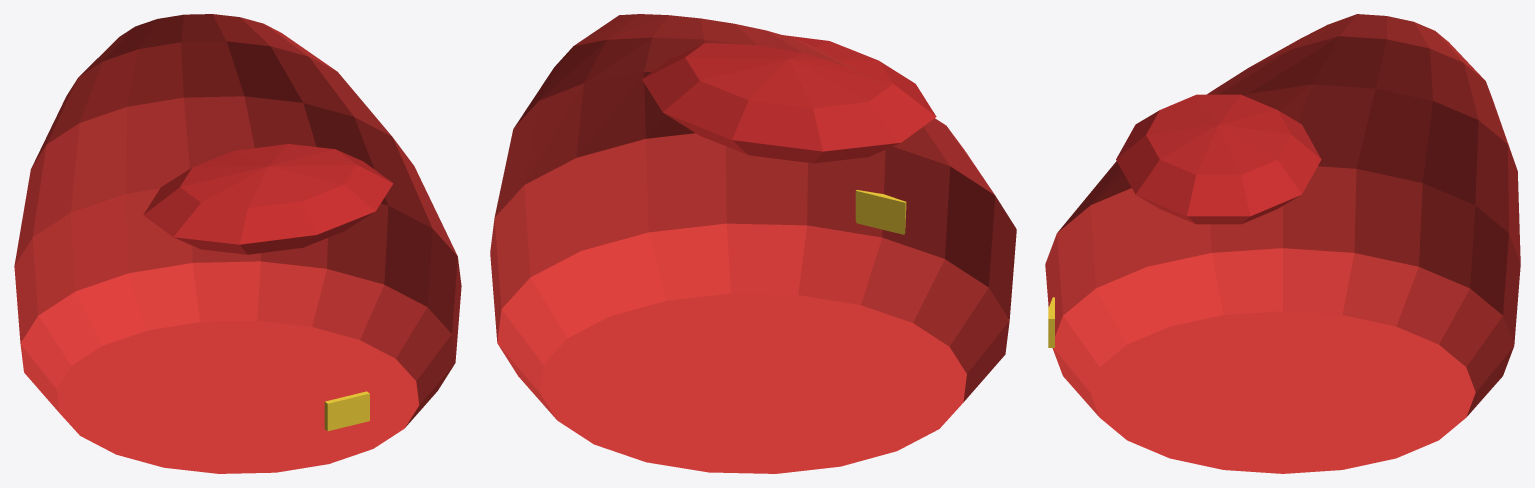
Rendered from sittsack.glb.
3 views of the same model, side by side, from view 1: azimuth 30°, elevation 25°; view 2: azimuth 150°, elevation 25°; view 3: azimuth 270°, elevation 25° (orthographic). The views are drawn at different scales.
Visible parts, largest first — view 1: sittsack; view 2: sittsack; view 3: sittsack.
Part boxes in pixels (x1=…): sittsack: x1=14, y1=14, x2=461, y2=473; sittsack: x1=490, y1=14, x2=1016, y2=473; sittsack: x1=1045, y1=14, x2=1520, y2=473.
Size of the model in its own units: 0.74 by 0.6 by 0.74.
